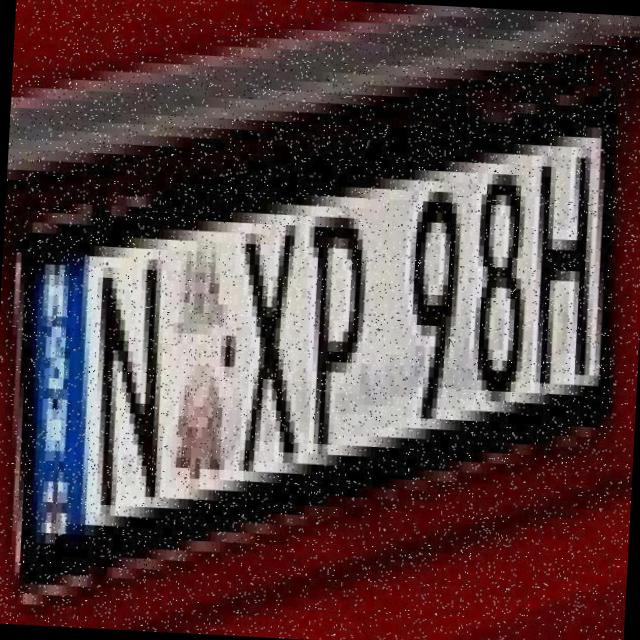LicensePlate: (0, 49, 632, 631)
